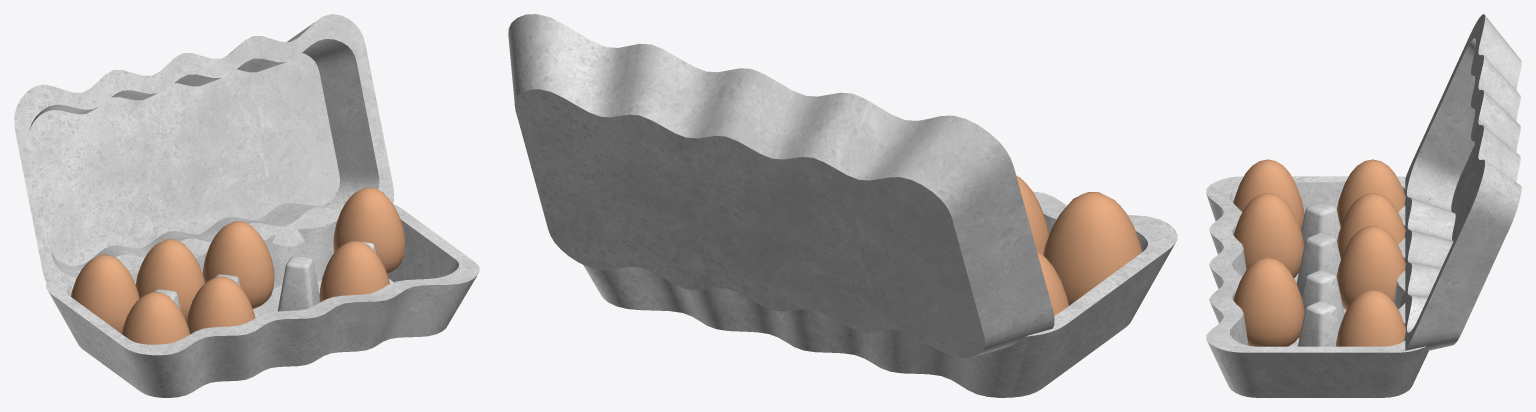
File: dandys_world_eggs.glb
3 renders of one model, left to right at view 1: azimuth 30°, elevation 25°; view 2: azimuth 150°, elevation 25°; view 3: azimuth 270°, elevation 25°, orthographic. The views are drawn at different scales.
Visible parts, largest first — view 1: Object_2, Object_3; view 2: Object_2, Object_3; view 3: Object_2, Object_3.
Boxes of the visible parts, x1,y1,x2,y2 form: Object_2: [14, 14, 479, 397]; Object_3: [71, 187, 404, 369]; Object_2: [508, 14, 1177, 397]; Object_3: [1016, 176, 1141, 315]; Object_2: [1206, 14, 1521, 397]; Object_3: [1233, 159, 1406, 346].
Bounding box in the file's own units: 3.1 × 1.9 × 2.34.
Materials: 2 (1 with a texture image).
